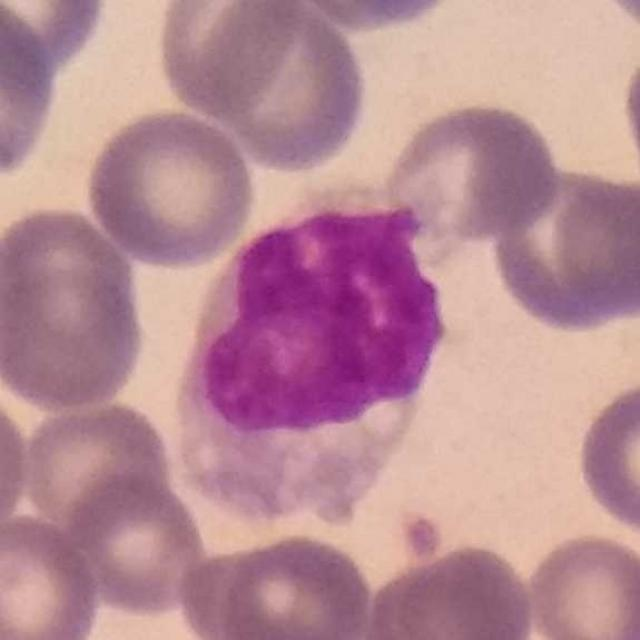Monocyte: (169, 195, 463, 532)
Platelets: (391, 504, 449, 561)
RBC: (0, 200, 149, 418), (197, 0, 372, 176), (82, 104, 260, 272), (381, 96, 564, 245), (483, 160, 637, 336), (16, 394, 177, 535), (59, 471, 210, 619), (190, 528, 379, 640), (150, 0, 303, 122), (359, 538, 539, 640), (0, 510, 104, 640), (520, 528, 640, 640), (571, 375, 640, 541), (0, 3, 62, 185), (0, 0, 111, 77), (273, 0, 471, 33), (0, 377, 33, 551), (616, 28, 640, 210)
